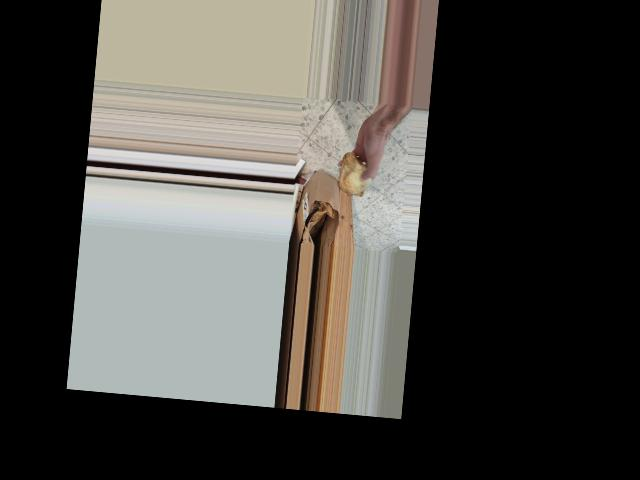onion: (334, 147, 374, 199)
